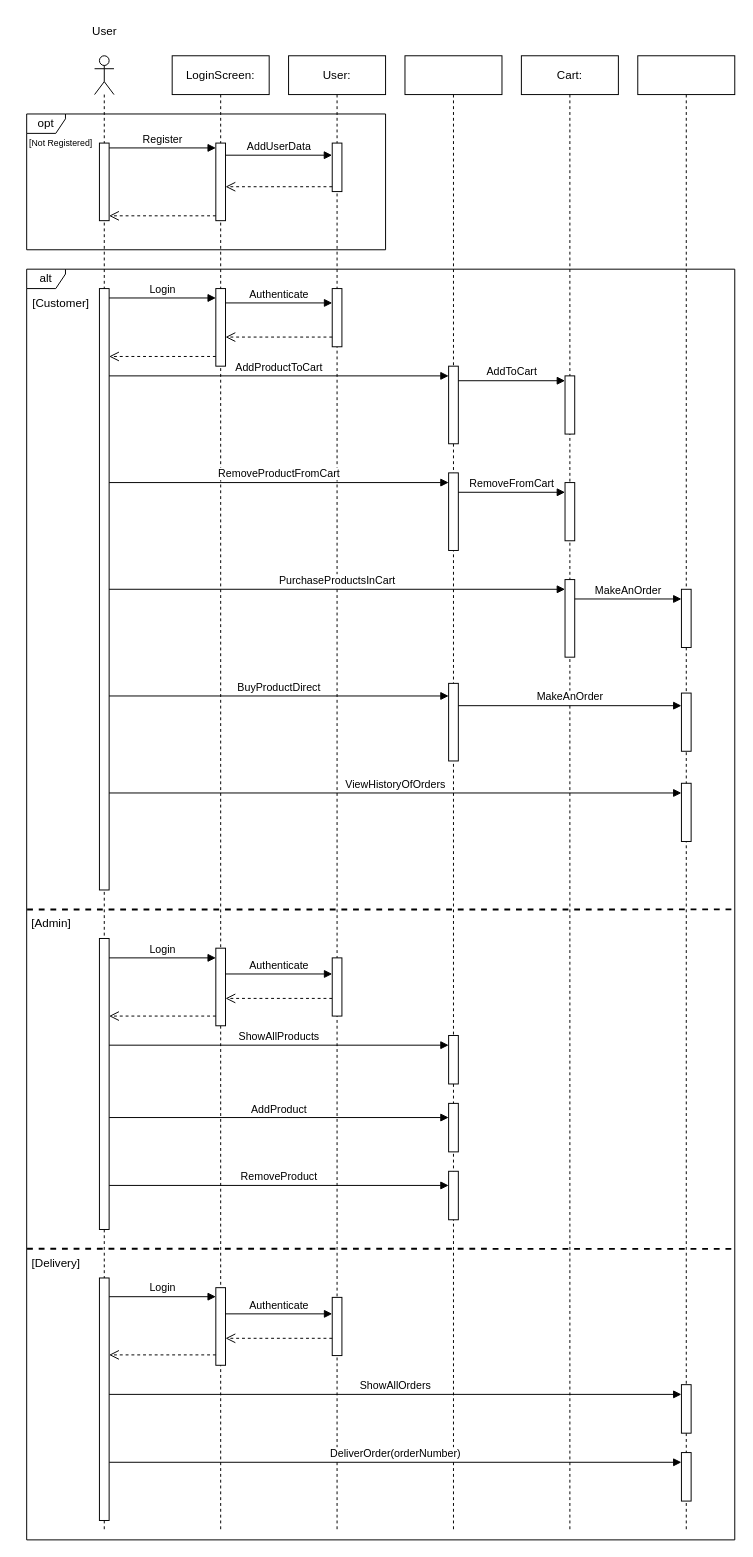
The diagram is 753 pixels wide and 1557 high, and some of its shapes have lost their labels. Here are the shapes that lost their labels. From the top down, the centre of each, then its label:
the point at 453,792: Product:
the point at 686,792: Order:
